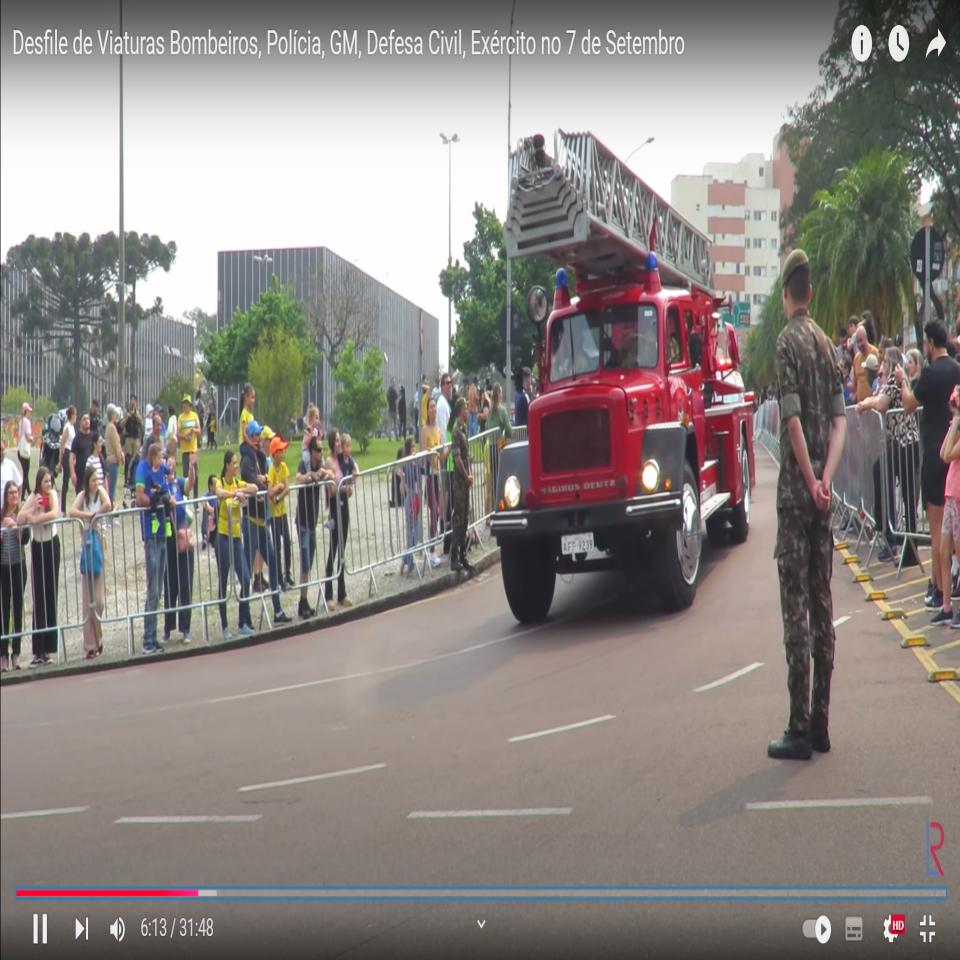viatura: (488, 125, 755, 621)
